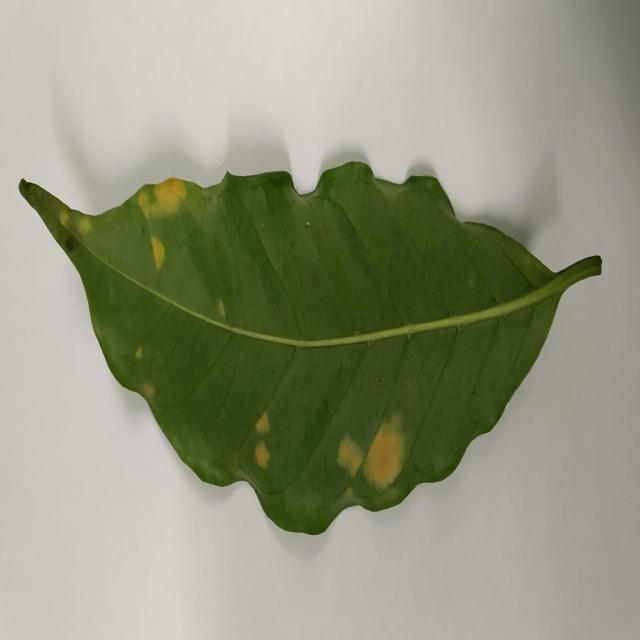rust: (365, 413, 406, 488), (138, 178, 187, 220), (328, 436, 365, 478), (254, 413, 270, 468), (151, 236, 165, 271), (141, 379, 155, 401)
